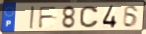4: (102, 4, 118, 29)
6: (122, 5, 140, 28)
8: (61, 5, 77, 30)
C: (79, 5, 100, 29)
F: (37, 6, 59, 30)
I: (29, 6, 36, 30)
